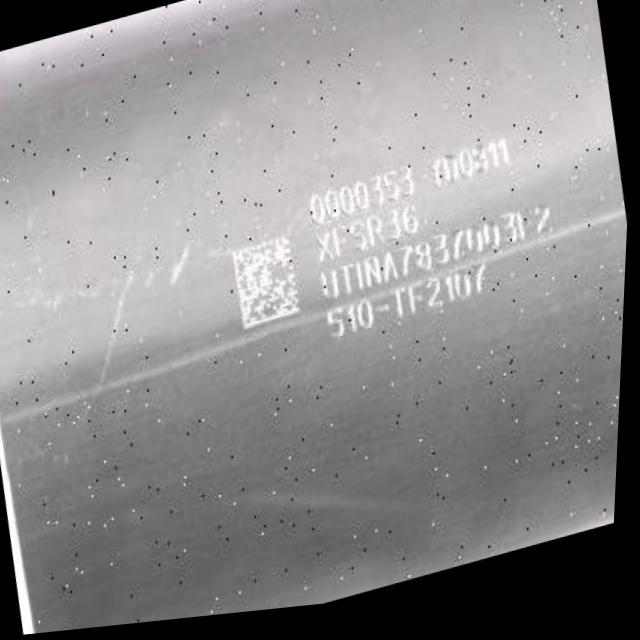ocr: (292, 130, 576, 371)
